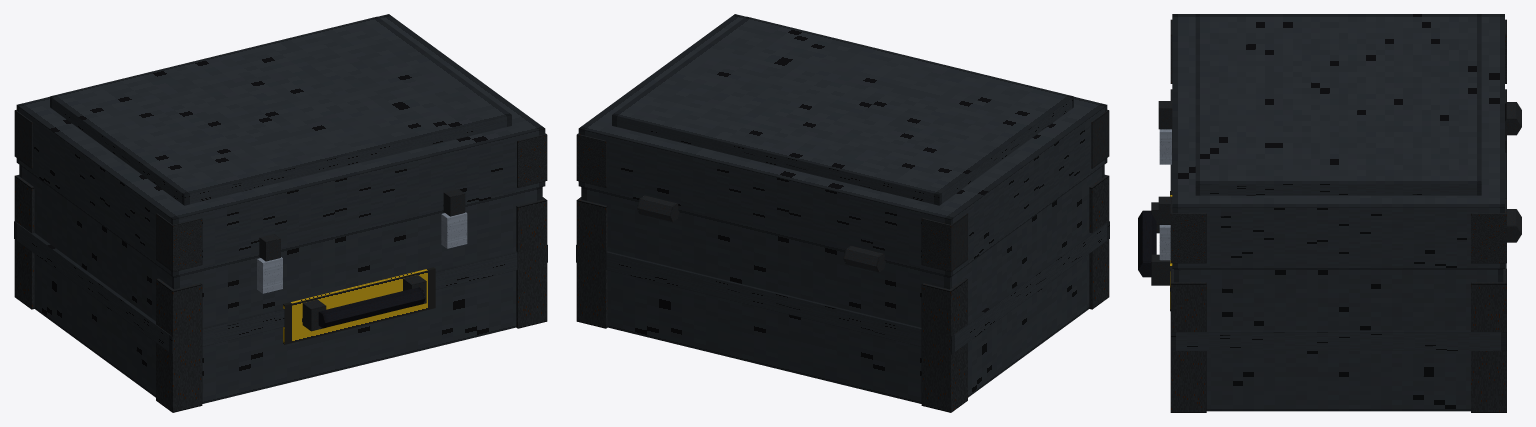
File: personal_effects_box.glb
3 views of the same model, side by side, from view 1: azimuth 30°, elevation 25°; view 2: azimuth 150°, elevation 25°; view 3: azimuth 270°, elevation 25° (orthographic). The views are drawn at different scales.
Visible parts, largest first — view 1: personal_effects_box; view 2: personal_effects_box; view 3: personal_effects_box.
Part boxes in pixels (x1=…): personal_effects_box: x1=14, y1=14, x2=547, y2=412; personal_effects_box: x1=576, y1=14, x2=1109, y2=412; personal_effects_box: x1=1138, y1=14, x2=1521, y2=412.
Size of the model in its own units: 0.4488 by 0.2325 by 0.373.
Materials: 1 (1 with a texture image).
